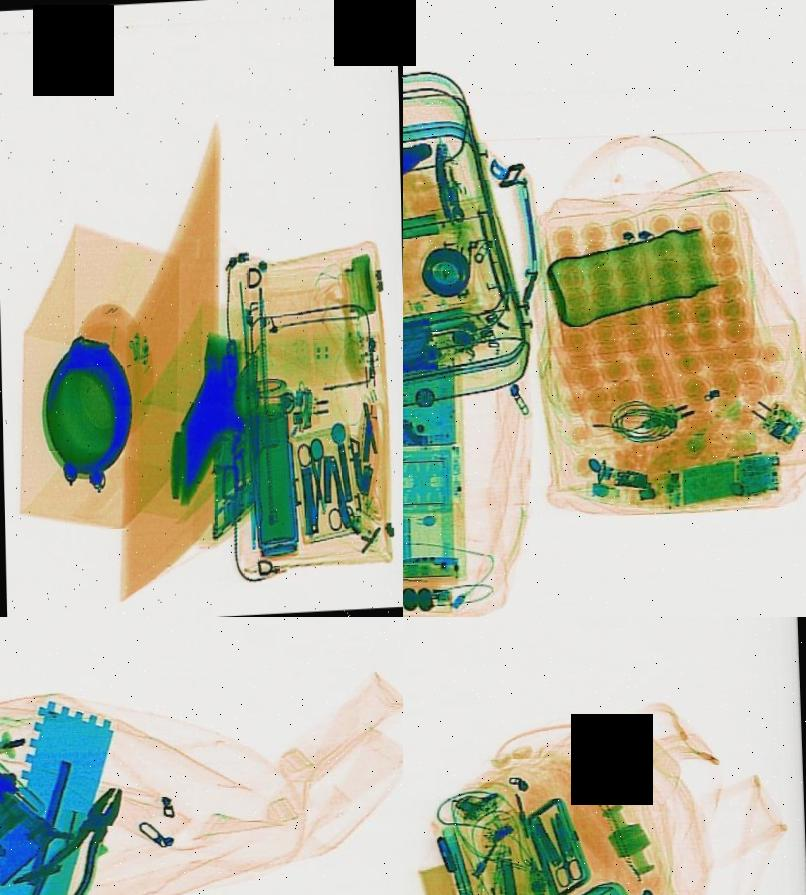Pliers: (18, 776, 146, 895)
Scissors: (296, 433, 338, 517), (542, 810, 586, 889), (324, 456, 356, 531)
